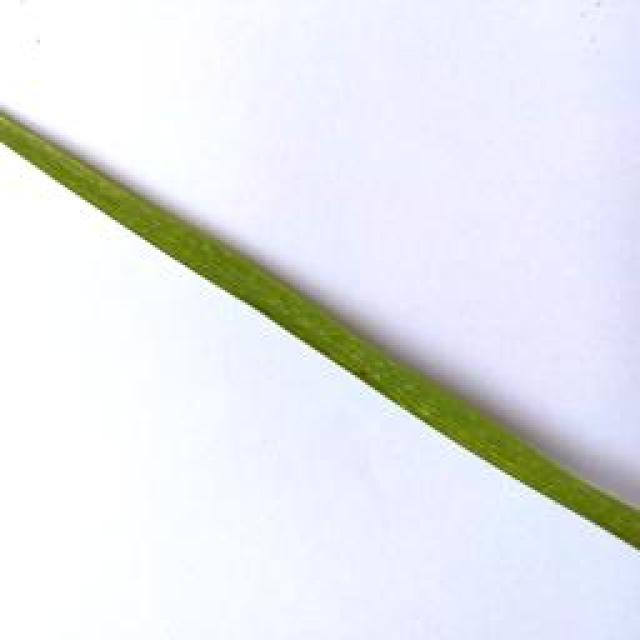Brown_Spot: (353, 364, 388, 397)
